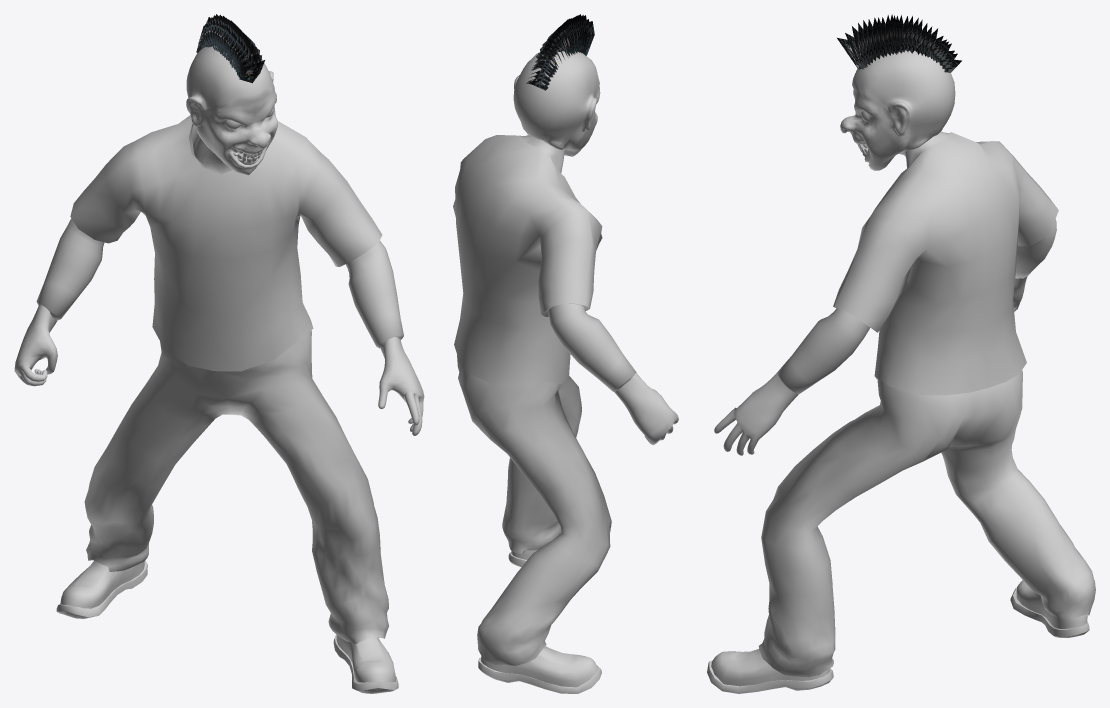
Rendered from Hit (51).obj.
The picture shows the model from 3 angles, left to right: view 1: azimuth 30°, elevation 25°; view 2: azimuth 150°, elevation 25°; view 3: azimuth 270°, elevation 25°; orthographic projection. The views are drawn at different scales.
Parts seen in each view (by area): view 1: shirt, pants, head, forearm_band_002, forearm_band_01, boots, boots001, hand_left, Hair, hand_right, neck; view 2: shirt, pants, head, forearm_band_01, boots, hand_right, Hair, neck; view 3: pants, shirt, head, forearm_band_002, Hair, boots001, hand_left, boots, forearm_band_01.
Part boxes in pixels (x1,y1,x2,y2): shirt: (70,115,382,371); pants: (84,330,388,643); head: (186,46,277,175); forearm_band_002: (346,240,403,348); forearm_band_01: (36,218,104,320); boots: (56,560,147,618); boots001: (333,634,398,693); hand_left: (378,337,424,435); Hair: (196,14,264,83); hand_right: (14,304,57,386); neck: (191,121,232,174); shirt: (453,135,602,385); pants: (457,355,611,665); head: (513,51,600,156); forearm_band_01: (548,303,636,391); boots: (478,646,601,693); hand_right: (614,373,678,445); Hair: (526,14,594,90); neck: (520,135,565,173); pants: (758,370,1095,677); shirt: (833,132,1058,395); head: (840,50,955,170); forearm_band_002: (777,308,869,394); Hair: (837,14,961,72); boots001: (707,649,833,693); hand_left: (714,372,798,455); boots: (1010,580,1089,637); forearm_band_01: (1015,219,1056,278).
Size of the model in its own units: 87.81 by 178 by 98.21.
